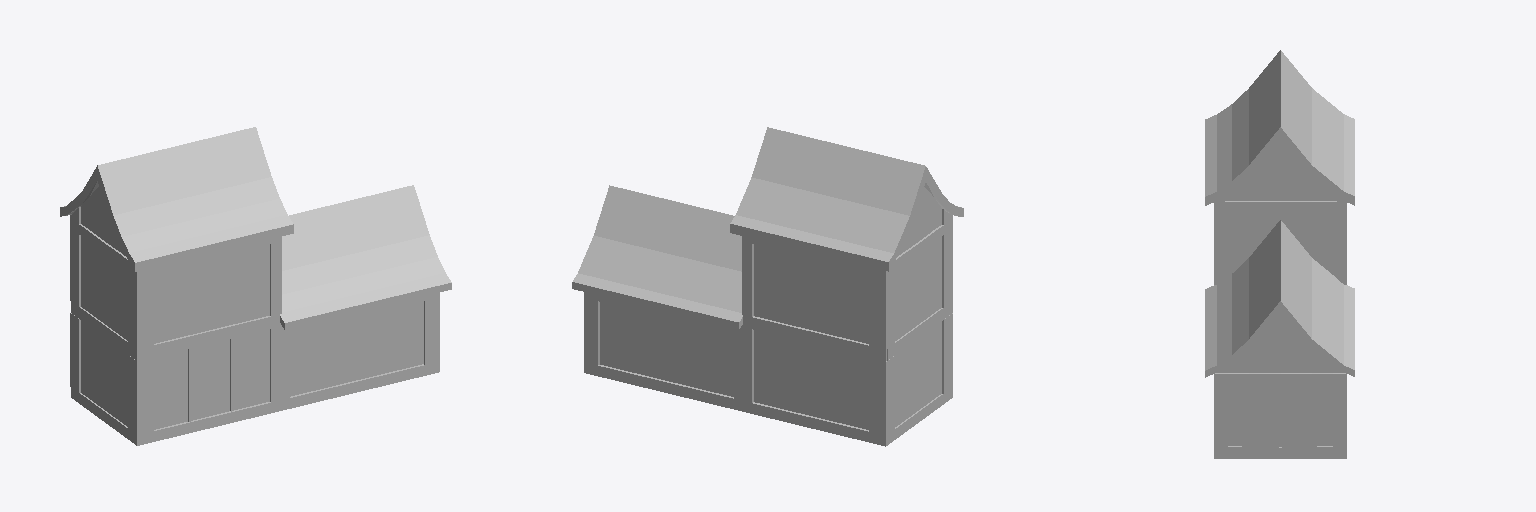
The model's file is whouse.obj.
The picture shows the model from 3 angles: view 1: azimuth 30°, elevation 25°; view 2: azimuth 150°, elevation 25°; view 3: azimuth 270°, elevation 25°; orthographic projection.
Visible parts, largest first — view 1: Cube; view 2: Cube; view 3: Cube.
Boxes of the visible parts, x1,y1,x2,y2 form: Cube: [60, 127, 451, 445]; Cube: [572, 127, 963, 446]; Cube: [1205, 50, 1354, 458].
Size of the model in its own units: 9.43 by 7.35 by 3.88.